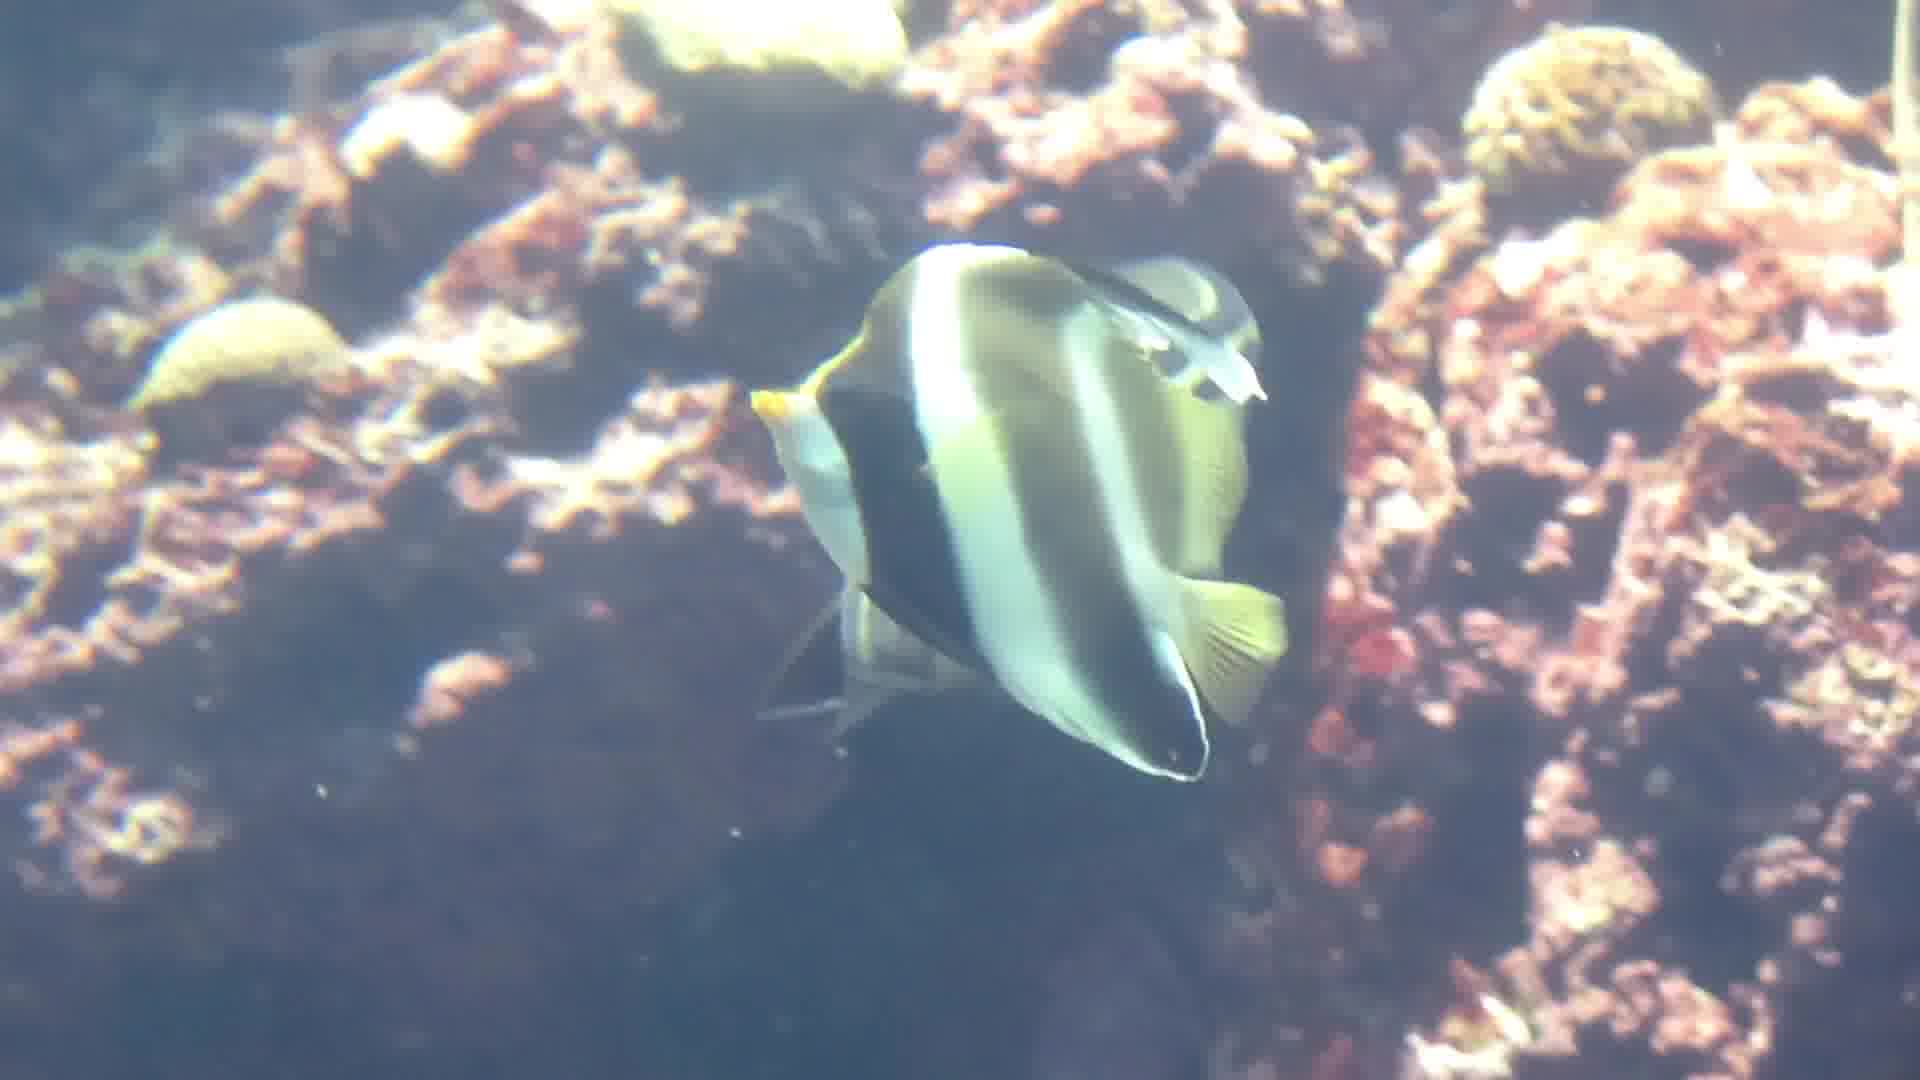Heniochus chrysostomus: (733, 171, 1375, 819)
